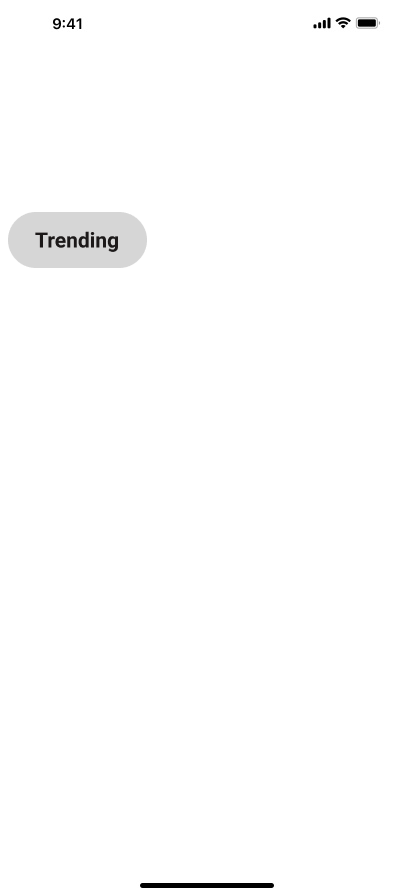Buttons: (8, 212, 155, 268)
Home Indicator: (0, 862, 414, 896)
Status Bar: (0, 0, 414, 44)
